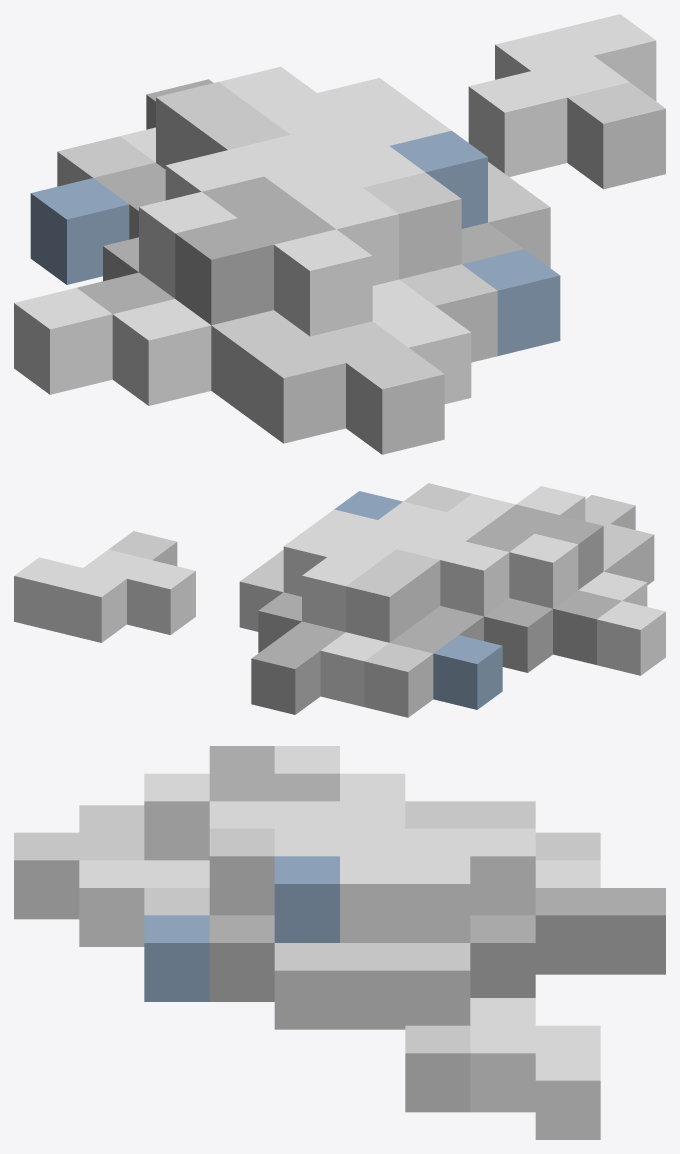
The model's file is zaspa1.obj.
The picture shows the model from 3 angles, top to bottom: view 1: azimuth 30°, elevation 25°; view 2: azimuth 150°, elevation 25°; view 3: azimuth 270°, elevation 25°; orthographic projection. The views are drawn at different scales.
Bounding box in the file's own units: 1.2 × 0.2 × 1.
1 material, 1 textured.
